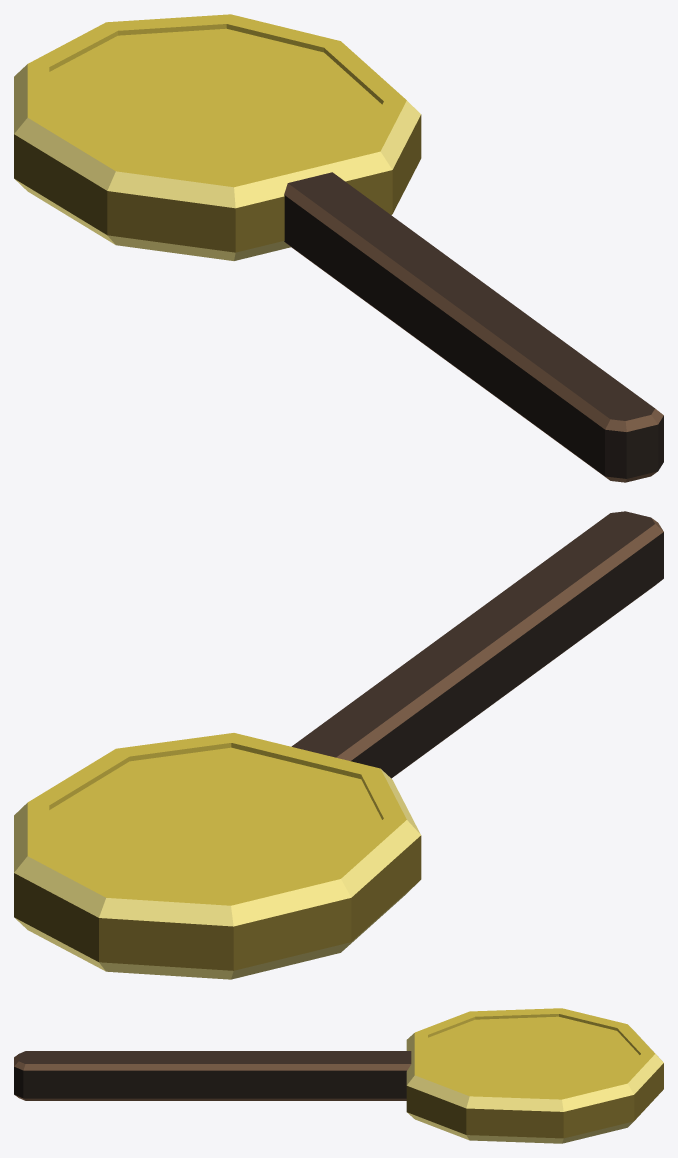
Rendered from gold_shovel.fbx.
The picture shows the model from 3 angles, top to bottom: view 1: azimuth 30°, elevation 25°; view 2: azimuth 150°, elevation 25°; view 3: azimuth 270°, elevation 25°; orthographic projection. The views are drawn at different scales.
Visible parts, largest first — view 1: gold_shovel; view 2: gold_shovel; view 3: gold_shovel.
Part boxes in pixels (left/top/right/bottom): gold_shovel: left=14, top=14, right=663, bottom=482; gold_shovel: left=14, top=511, right=663, bottom=979; gold_shovel: left=14, top=1008, right=663, bottom=1143.
Bounding box in the file's own units: 0.86 × 0.18 × 2.4.
Materials: 1 (1 with a texture image).
